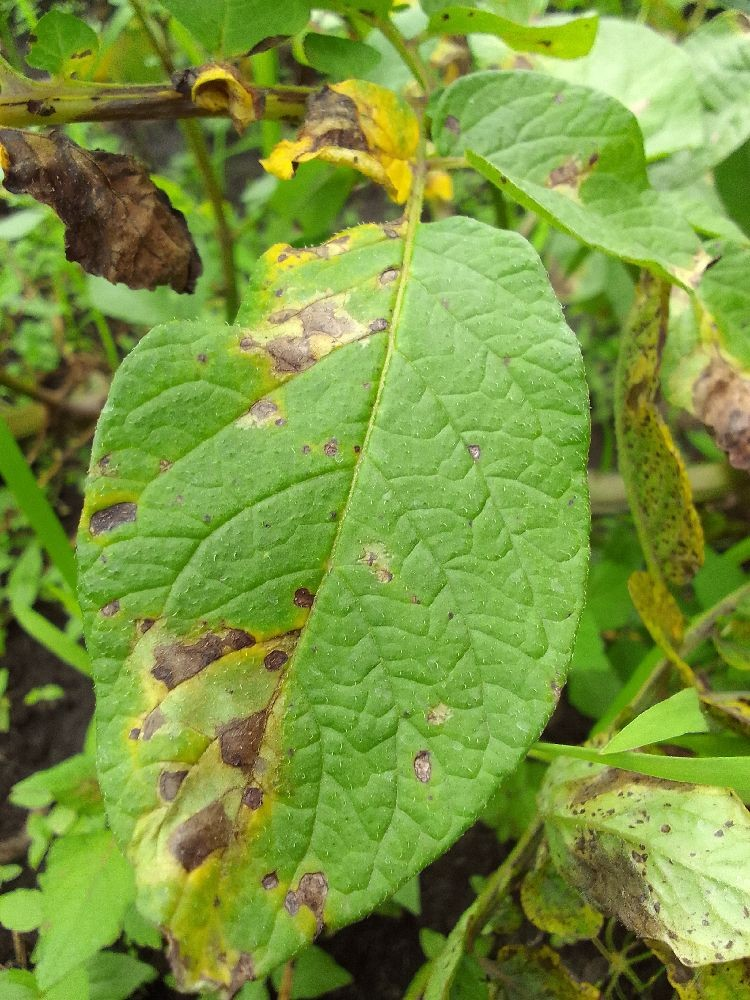late_blight: (0, 23, 475, 308), (540, 223, 750, 699), (333, 773, 750, 1000), (0, 266, 175, 573)
